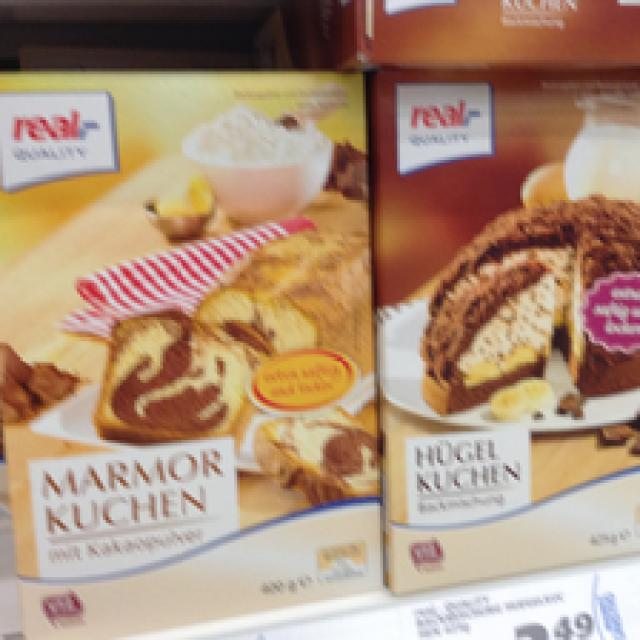groceries: (0, 60, 369, 637), (374, 57, 637, 580)
